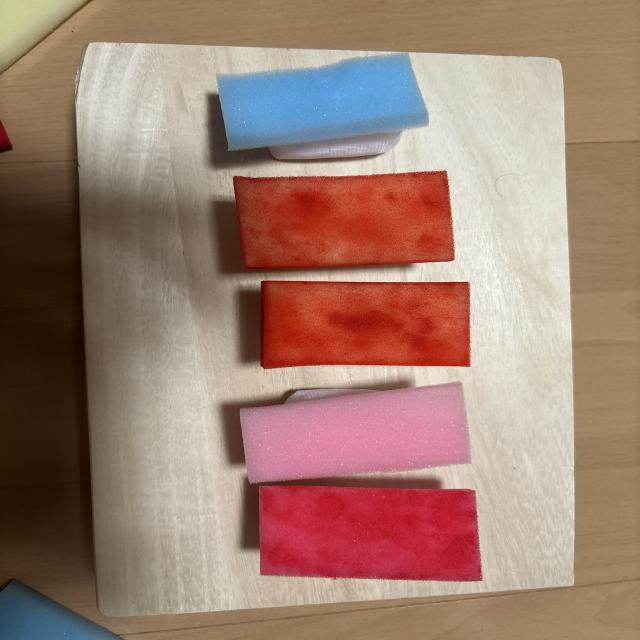NG: (217, 53, 428, 160)
maguro: (259, 486, 482, 581)
salmon: (234, 171, 455, 269), (260, 281, 470, 368)
tai: (240, 382, 470, 482)
